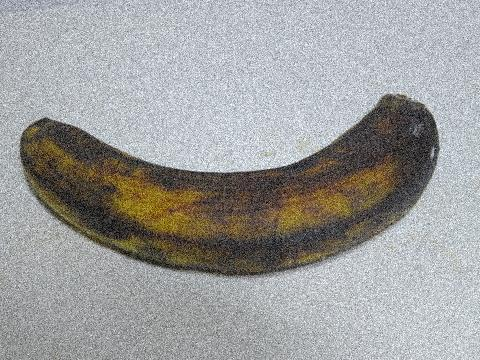overripe: (15, 85, 454, 284)
rotten: (367, 80, 448, 196)
